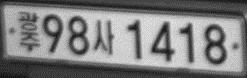1: (176, 22, 201, 62), (124, 19, 147, 59)
4: (150, 21, 174, 61)
8: (203, 23, 227, 65), (67, 15, 89, 56)
9: (41, 13, 63, 53)
광주_V: (18, 10, 41, 52)
사: (93, 19, 115, 55)
